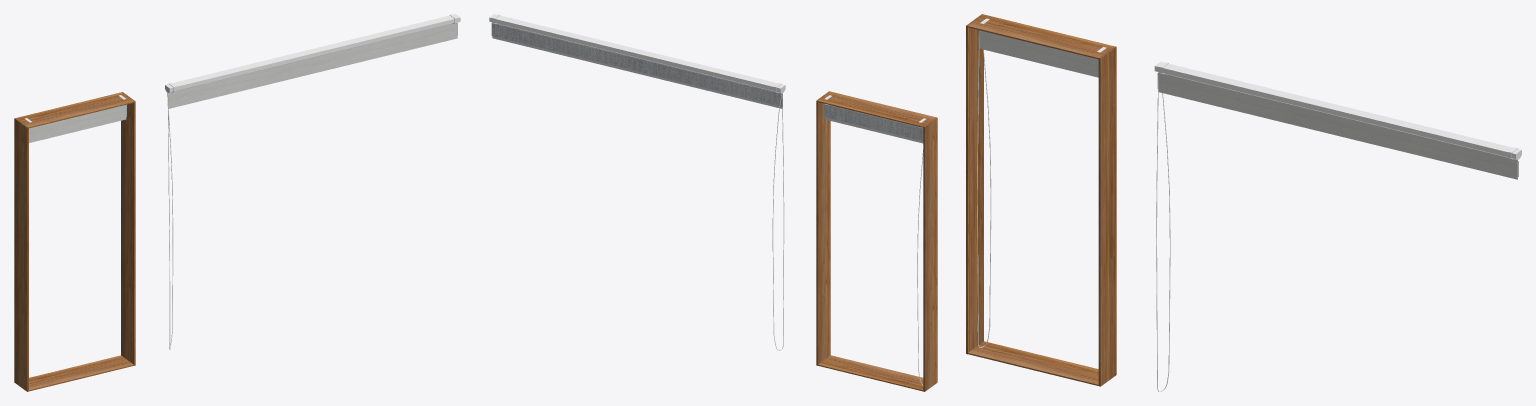
The model's file is curtain fix.fbx.
3 views of the same model, side by side, from view 1: azimuth 30°, elevation 25°; view 2: azimuth 150°, elevation 25°; view 3: azimuth 330°, elevation 25° (orthographic). The views are drawn at different scales.
Parts seen in each view (by area): view 1: Object606518, Box2131640261, Box2131640259, Box2131640246, Object606517, Box2131640262, Box2131640260; view 2: Object606518, Box2131640261, Box2131640259, Box2131640246, Object606517, Box2131640262, Box2131640260; view 3: Object606518, Box2131640259, Box2131640261, Box2131640246, Object606517, Box2131640262, Box2131640260, Box2131640245.
Part boxes in pixels (box(x1,y1,x2,y2)): Object606518: box(167, 23, 457, 108); Box2131640261: box(14, 118, 28, 391); Box2131640259: box(121, 92, 135, 365); Box2131640246: box(165, 14, 460, 349); Object606517: box(29, 104, 126, 142); Box2131640262: box(16, 92, 133, 128); Box2131640260: box(29, 355, 133, 391); Object606518: box(491, 23, 782, 108); Box2131640261: box(923, 117, 937, 391); Box2131640259: box(816, 91, 830, 365); Box2131640246: box(489, 14, 785, 350); Object606517: box(824, 104, 923, 143); Box2131640262: box(818, 91, 935, 127); Box2131640260: box(818, 355, 923, 391); Object606518: box(1157, 72, 1518, 179); Box2131640259: box(1098, 46, 1116, 386); Box2131640261: box(966, 14, 983, 354); Box2131640246: box(1154, 61, 1521, 391); Object606517: box(978, 30, 1098, 77); Box2131640262: box(968, 14, 1113, 59); Box2131640260: box(968, 341, 1098, 385); Box2131640245: box(977, 18, 1106, 347).
Bounding box in the file's own units: 2442 × 1410 × 124.
4 materials, 3 textured.
